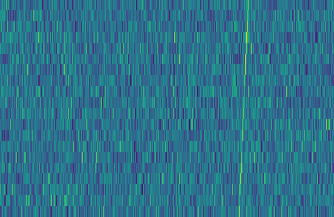signal: (235, 0, 254, 217)
